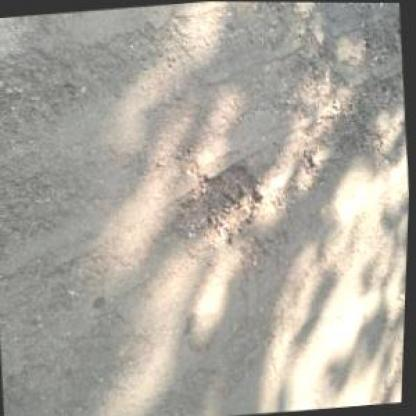pothole: (176, 157, 265, 252)
